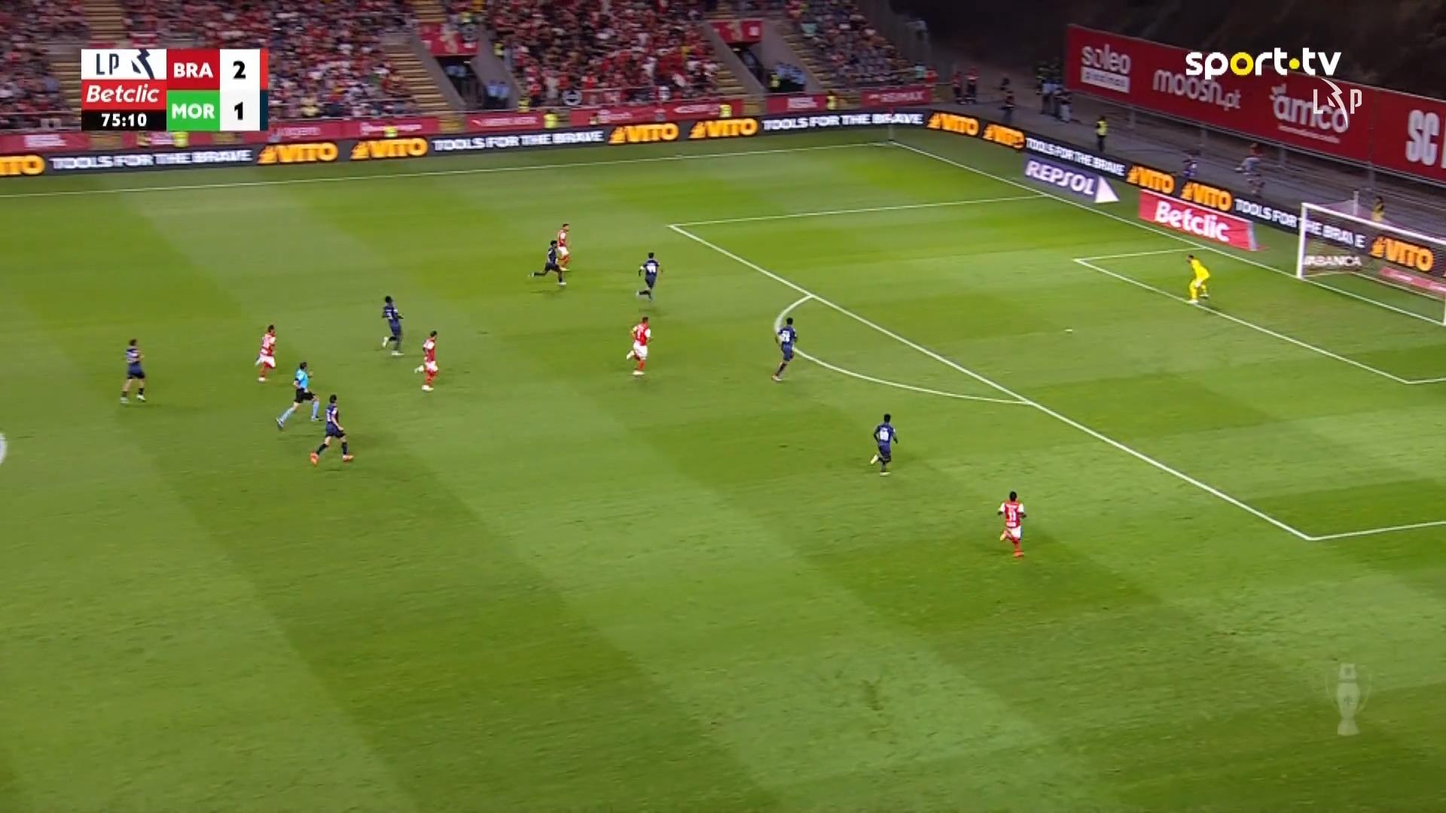ball: (309, 451, 318, 464)
goalkeeper: (1186, 253, 1210, 303)
player: (308, 393, 354, 465), (996, 489, 1027, 557), (526, 239, 569, 287), (868, 412, 898, 476), (770, 315, 798, 382), (119, 337, 147, 403), (625, 315, 653, 375), (414, 330, 439, 391), (380, 294, 404, 357), (254, 324, 277, 382), (636, 251, 661, 300), (555, 222, 571, 271)
referee: (274, 361, 322, 431)
